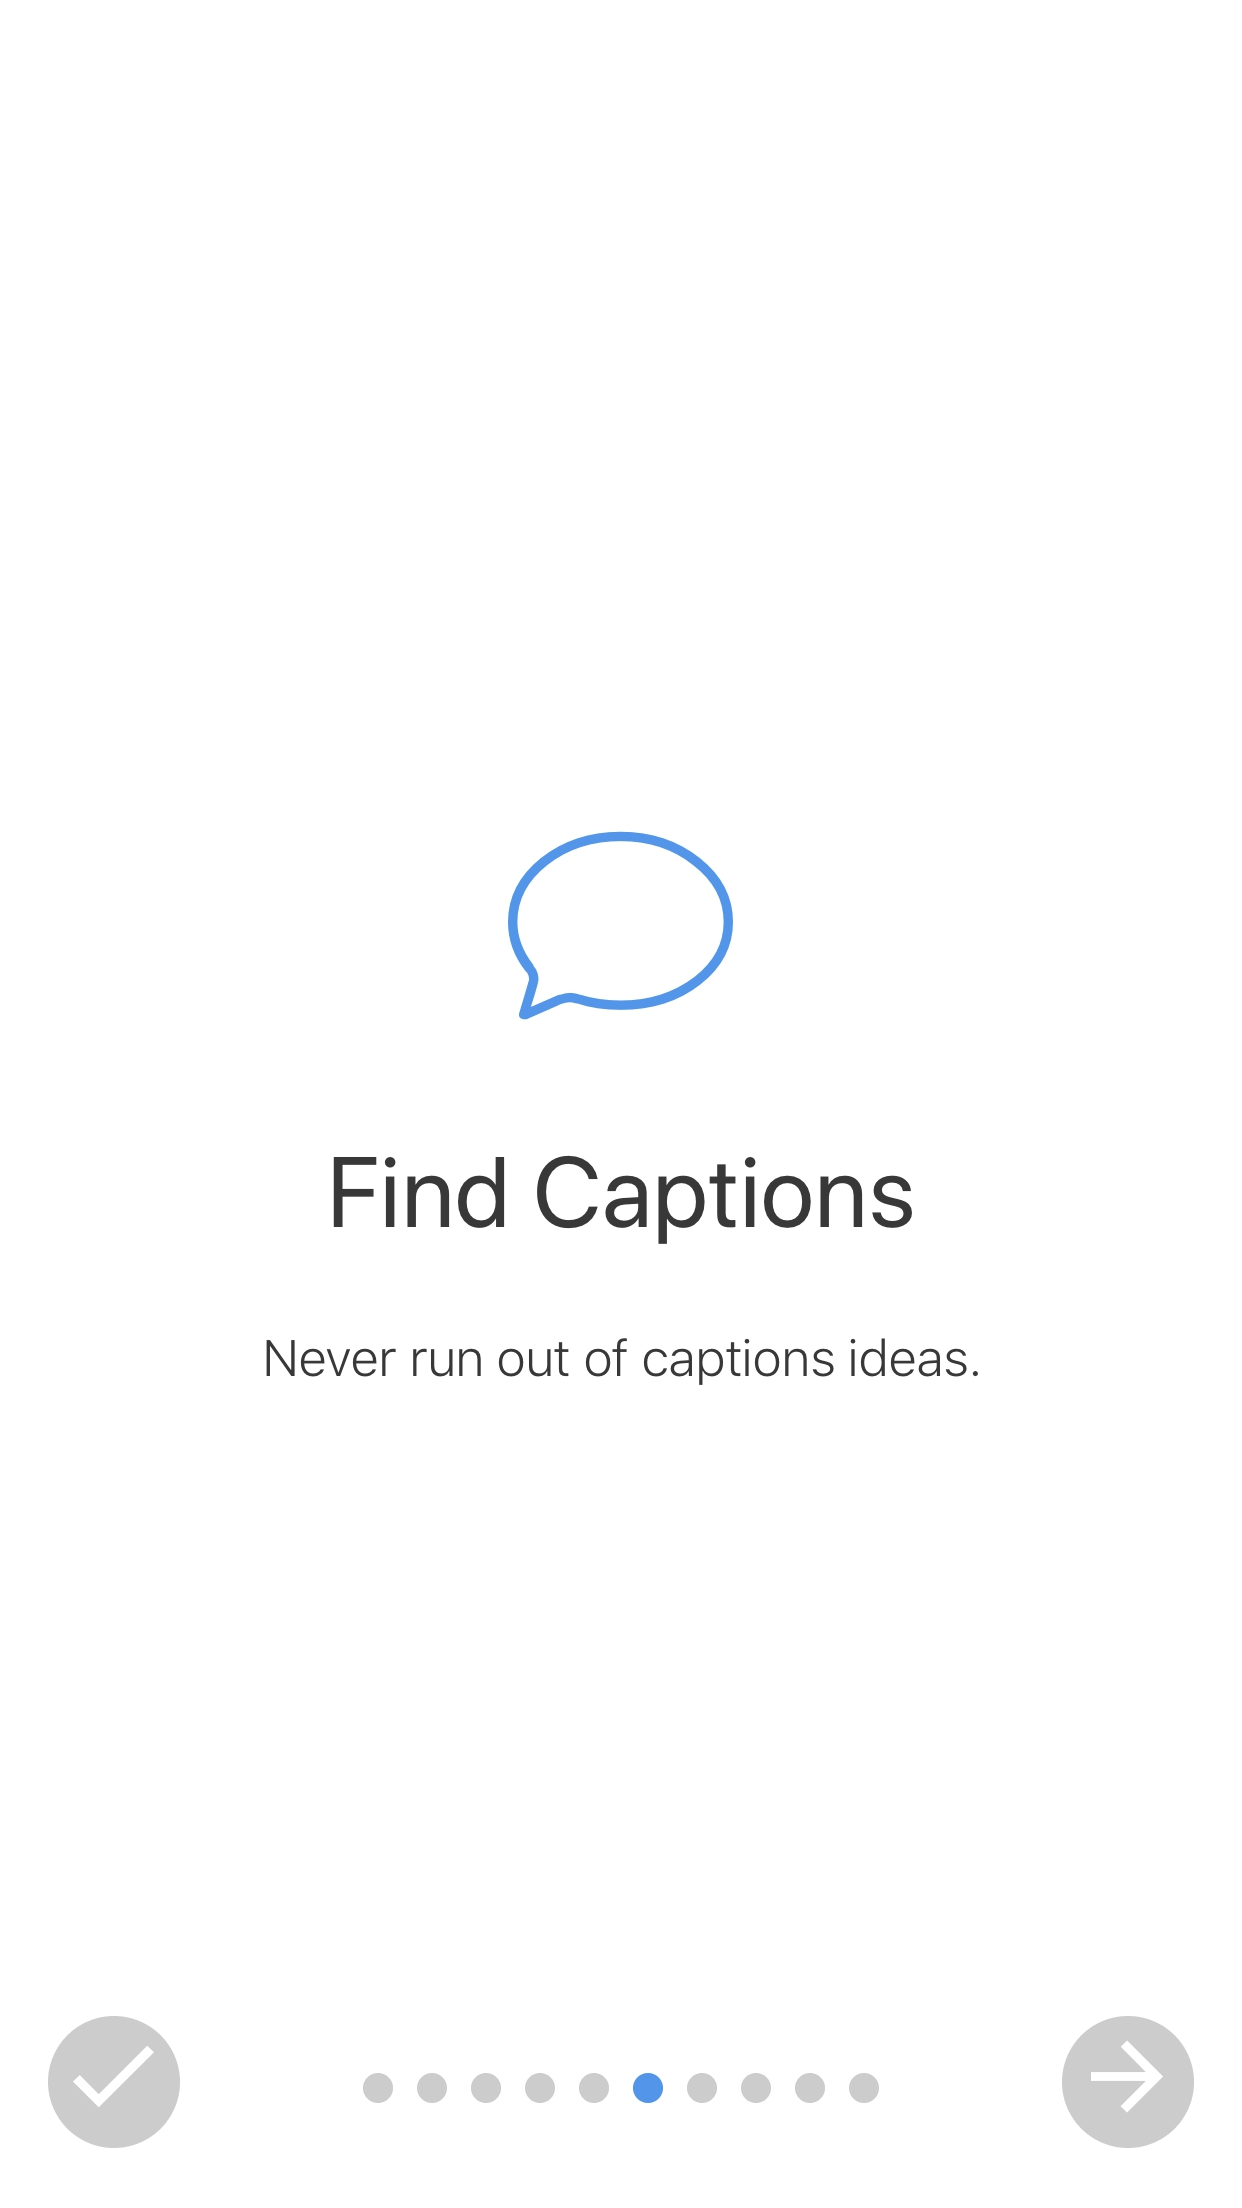Icon: (507, 831, 734, 1021), (1062, 2015, 1193, 2147), (49, 2015, 180, 2147)
PageIndicator: (362, 2072, 880, 2103)
Text: (334, 1156, 911, 1244), (265, 1338, 978, 1385)
